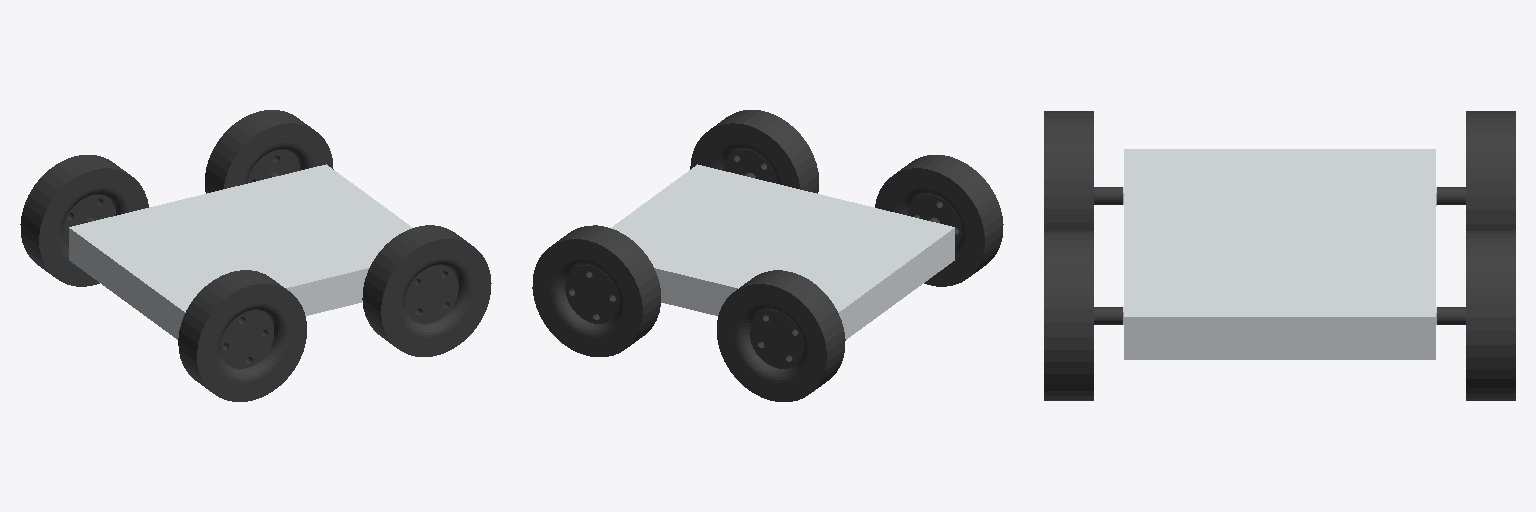
URDF robot description (delivery_robot):
<?xml version="1.0" encoding="utf-8"?>
<!-- This URDF was automatically created by SolidWorks to URDF Exporter! Originally created by [author] ([email redacted]) 
     Commit Version: 1.6.0-4-g7f85cfe  Build Version: 1.6.7995.38578
     For more information, please see http://wiki.ros.org/sw_urdf_exporter -->
<robot
  name="delivery_robot">
  <link name="dummy_link" />

  <joint name="dummy_joint" type="fixed">
    <parent link="dummy_link" />
    <child link="base_link" />
    <origin xyz="0 0 0" rpy="0 0 0" />
  </joint>
  <link
    name="base_link">
    <inertial>
      <origin
        xyz="0.010935 -0.030407 0.054599"
        rpy="0 0 0" />
      <mass
        value="0.92997" />
      <inertia
        ixx="0.0079514"
        ixy="-1.1522E-08"
        ixz="5.938E-10"
        iyy="0.012166"
        iyz="2.7431E-08"
        izz="0.019879" />
    </inertial>
    <visual>
      <origin
        xyz="0 0 0"
        rpy="0 0 0" />
      <geometry>
        <mesh
          filename="package://delivery_robot/meshes/base_link.STL" />
      </geometry>
      <material
        name="">
        <color
          rgba="0.89804 0.91765 0.92941 1" />
      </material>
    </visual>
    <collision>
      <origin
        xyz="0 0 0"
        rpy="0 0 0" />
      <geometry>
        <mesh
          filename="package://delivery_robot/meshes/base_link.STL" />
      </geometry>
    </collision>
  </link>
  <link
    name="wheel_r1_link">
    <inertial>
      <origin
        xyz="-2.77555756156289E-17 -0.01905 -6.93889390390723E-18"
        rpy="0 0 0" />
      <mass
        value="0.00925034546157725" />
      <inertia
        ixx="1.26237123251708E-06"
        ixy="-2.68139427113751E-39"
        ixz="3.9715781344532E-55"
        iyy="2.86760135787476E-07"
        iyz="5.18315748524543E-24"
        izz="1.26237123251708E-06" />
    </inertial>
    <visual>
      <origin
        xyz="0 0 0"
        rpy="0 0 0" />
      <geometry>
        <mesh
          filename="package://delivery_robot/meshes/wheel_r1_link.STL" />
      </geometry>
      <material
        name="">
        <color
          rgba="0.298039215686275 0.298039215686275 0.298039215686275 1" />
      </material>
    </visual>
    <collision>
      <origin
        xyz="0 0 0"
        rpy="0 0 0" />
      <geometry>
        <mesh
          filename="package://delivery_robot/meshes/wheel_r1_link.STL" />
      </geometry>
    </collision>
  </link>
  <joint
    name="wheel_r1_joint"
    type="continuous">
    <origin
      xyz="0.13799 0.11056 0.03863"
      rpy="3.1416 0 0" />
    <parent
      link="base_link" />
    <child
      link="wheel_r1_link" />
    <axis
      xyz="0 1 0" />
  </joint>
  <link
    name="real_wheel_r1_link">
    <inertial>
      <origin
        xyz="6.74635390052192E-06 1.18862929219116E-05 -0.022225"
        rpy="0 0 0" />
      <mass
        value="0.837780520459389" />
      <inertia
        ixx="0.00151305128968288"
        ixy="-1.05291714394583E-07"
        ixz="3.71419242818938E-21"
        iyy="0.00151267393371603"
        iyz="-4.34580762946475E-21"
        izz="0.00278701331152993" />
    </inertial>
    <visual>
      <origin
        xyz="0 0 0"
        rpy="0 0 0" />
      <geometry>
        <mesh
          filename="package://delivery_robot/meshes/real_wheel_r1_link.STL" />
      </geometry>
      <material
        name="">
        <color
          rgba="0.298039215686275 0.298039215686275 0.298039215686275 1" />
      </material>
    </visual>
    <collision>
      <origin
        xyz="0 0 0"
        rpy="0 0 0" />
      <geometry>
        <mesh
          filename="package://delivery_robot/meshes/real_wheel_r1_link.STL" />
      </geometry>
    </collision>
  </link>
  <joint
    name="real_wheel_r1_joint"
    type="continuous">
    <origin
      xyz="0 -0.0254 0"
      rpy="-1.5708 0.75515 0" />
    <parent
      link="wheel_r1_link" />
    <child
      link="real_wheel_r1_link" />
    <axis
      xyz="0 0 1" />
  </joint>
  <link
    name="wheel_f1_link">
    <inertial>
      <origin
        xyz="-1.38777878078145E-17 0.01905 0"
        rpy="0 0 0" />
      <mass
        value="0.00925034546157725" />
      <inertia
        ixx="1.26237123251708E-06"
        ixy="-2.68139427113751E-39"
        ixz="-3.9715781344532E-55"
        iyy="2.86760135787476E-07"
        iyz="-3.62940203436553E-38"
        izz="1.26237123251708E-06" />
    </inertial>
    <visual>
      <origin
        xyz="0 0 0"
        rpy="0 0 0" />
      <geometry>
        <mesh
          filename="package://delivery_robot/meshes/wheel_f1_link.STL" />
      </geometry>
      <material
        name="">
        <color
          rgba="0.298039215686275 0.298039215686275 0.298039215686275 1" />
      </material>
    </visual>
    <collision>
      <origin
        xyz="0 0 0"
        rpy="0 0 0" />
      <geometry>
        <mesh
          filename="package://delivery_robot/meshes/wheel_f1_link.STL" />
      </geometry>
    </collision>
  </link>
  <joint
    name="wheel_f1_joint"
    type="continuous">
    <origin
      xyz="-0.11601 0.11056 0.03863"
      rpy="0 0 0" />
    <parent
      link="base_link" />
    <child
      link="wheel_f1_link" />
    <axis
      xyz="0 1 0" />
  </joint>
  <link
    name="real_wheel_f1_link">
    <inertial>
      <origin
        xyz="6.7463539005358E-06 1.18862929219671E-05 0.022225"
        rpy="0 0 0" />
      <mass
        value="0.837780520459389" />
      <inertia
        ixx="0.00151305128968288"
        ixy="-1.05291714394339E-07"
        ixz="-1.06298982490433E-21"
        iyy="0.00151267393371603"
        iyz="-5.71971116817966E-23"
        izz="0.00278701331152993" />
    </inertial>
    <visual>
      <origin
        xyz="0 0 0"
        rpy="0 0 0" />
      <geometry>
        <mesh
          filename="package://delivery_robot/meshes/real_wheel_f1_link.STL" />
      </geometry>
      <material
        name="">
        <color
          rgba="0.298039215686275 0.298039215686275 0.298039215686275 1" />
      </material>
    </visual>
    <collision>
      <origin
        xyz="0 0 0"
        rpy="0 0 0" />
      <geometry>
        <mesh
          filename="package://delivery_robot/meshes/real_wheel_f1_link.STL" />
      </geometry>
    </collision>
  </link>
  <joint
    name="real_wheel_f1_joint"
    type="continuous">
    <origin
      xyz="0 0.0254 0"
      rpy="-1.5708 -0.1063 0" />
    <parent
      link="wheel_f1_link" />
    <child
      link="real_wheel_f1_link" />
    <axis
      xyz="0 0 1" />
  </joint>
  <link
    name="wheel_r2_link">
    <inertial>
      <origin
        xyz="0 0.01905 2.08166817117217E-17"
        rpy="0 0 0" />
      <mass
        value="0.00925034546157725" />
      <inertia
        ixx="1.26237123251708E-06"
        ixy="-2.68139427113751E-39"
        ixz="-4.96447266806645E-56"
        iyy="2.86760135787476E-07"
        iyz="-1.49033559525697E-22"
        izz="1.26237123251708E-06" />
    </inertial>
    <visual>
      <origin
        xyz="0 0 0"
        rpy="0 0 0" />
      <geometry>
        <mesh
          filename="package://delivery_robot/meshes/wheel_r2_link.STL" />
      </geometry>
      <material
        name="">
        <color
          rgba="0.298039215686275 0.298039215686275 0.298039215686275 1" />
      </material>
    </visual>
    <collision>
      <origin
        xyz="0 0 0"
        rpy="0 0 0" />
      <geometry>
        <mesh
          filename="package://delivery_robot/meshes/wheel_r2_link.STL" />
      </geometry>
    </collision>
  </link>
  <joint
    name="wheel_r2_joint"
    type="continuous">
    <origin
      xyz="0.13791 -0.17138 0.038807"
      rpy="3.1416 0 0" />
    <parent
      link="base_link" />
    <child
      link="wheel_r2_link" />
    <axis
      xyz="0 1 0" />
  </joint>
  <link
    name="real_wheel_r2_link">
    <inertial>
      <origin
        xyz="6.74635390051498E-06 1.18862929219254E-05 -0.022225"
        rpy="0 0 0" />
      <mass
        value="0.837780520459389" />
      <inertia
        ixx="0.00151305128968288"
        ixy="-1.05291714394394E-07"
        ixz="-9.89021711443493E-20"
        iyy="0.00151267393371603"
        iyz="6.95362221279974E-21"
        izz="0.00278701331152993" />
    </inertial>
    <visual>
      <origin
        xyz="0 0 0"
        rpy="0 0 0" />
      <geometry>
        <mesh
          filename="package://delivery_robot/meshes/real_wheel_r2_link.STL" />
      </geometry>
      <material
        name="">
        <color
          rgba="0.298039215686275 0.298039215686275 0.298039215686275 1" />
      </material>
    </visual>
    <collision>
      <origin
        xyz="0 0 0"
        rpy="0 0 0" />
      <geometry>
        <mesh
          filename="package://delivery_robot/meshes/real_wheel_r2_link.STL" />
      </geometry>
    </collision>
  </link>
  <joint
    name="real_wheel_r2_joint"
    type="continuous">
    <origin
      xyz="0 0.0254 0"
      rpy="-1.5708 -1.5106 3.1416" />
    <parent
      link="wheel_r2_link" />
    <child
      link="real_wheel_r2_link" />
    <axis
      xyz="0 0 1" />
  </joint>
  <link
    name="wheel_f2_link">
    <inertial>
      <origin
        xyz="-2.77555756156289E-17 0.01905 5.55111512312578E-17"
        rpy="0 0 0" />
      <mass
        value="0.00925034546157725" />
      <inertia
        ixx="1.26237123251708E-06"
        ixy="6.7231285611538E-24"
        ixz="0"
        iyy="2.86760135787476E-07"
        iyz="-1.58038263479407E-23"
        izz="1.26237123251708E-06" />
    </inertial>
    <visual>
      <origin
        xyz="0 0 0"
        rpy="0 0 0" />
      <geometry>
        <mesh
          filename="package://delivery_robot/meshes/wheel_f2_link.STL" />
      </geometry>
      <material
        name="">
        <color
          rgba="0.298039215686275 0.298039215686275 0.298039215686275 1" />
      </material>
    </visual>
    <collision>
      <origin
        xyz="0 0 0"
        rpy="0 0 0" />
      <geometry>
        <mesh
          filename="package://delivery_robot/meshes/wheel_f2_link.STL" />
      </geometry>
    </collision>
  </link>
  <joint
    name="wheel_f2_joint"
    type="continuous">
    <origin
      xyz="-0.11609 -0.17138 0.038807"
      rpy="0 0.17094 -3.1416" />
    <parent
      link="base_link" />
    <child
      link="wheel_f2_link" />
    <axis
      xyz="0 1 0" />
  </joint>
  <link
    name="real_wheel_f2_link">
    <inertial>
      <origin
        xyz="6.74635390054967E-06 1.18862929218769E-05 0.022225"
        rpy="0 0 0" />
      <mass
        value="0.837780520459389" />
      <inertia
        ixx="0.00151305128968288"
        ixy="-1.05291714394854E-07"
        ixz="1.69141346237133E-19"
        iyy="0.00151267393371603"
        iyz="8.80229443436177E-20"
        izz="0.00278701331152993" />
    </inertial>
    <visual>
      <origin
        xyz="0 0 0"
        rpy="0 0 0" />
      <geometry>
        <mesh
          filename="package://delivery_robot/meshes/real_wheel_f2_link.STL" />
      </geometry>
      <material
        name="">
        <color
          rgba="0.298039215686275 0.298039215686275 0.298039215686275 1" />
      </material>
    </visual>
    <collision>
      <origin
        xyz="0 0 0"
        rpy="0 0 0" />
      <geometry>
        <mesh
          filename="package://delivery_robot/meshes/real_wheel_f2_link.STL" />
      </geometry>
    </collision>
  </link>
  <joint
    name="real_wheel_f2_joint"
    type="continuous">
    <origin
      xyz="0 0.0254 0"
      rpy="1.5708 0.71507 3.1416" />
    <parent
      link="wheel_f2_link" />
    <child
      link="real_wheel_f2_link" />
    <axis
      xyz="0 0 1" />
  </joint>
</robot>

--- Render facts (derived) ---
The picture shows the robot from 3 angles, left to right: view 1: azimuth 30°, elevation 25°; view 2: azimuth 150°, elevation 25°; view 3: azimuth 270°, elevation 25°; orthographic projection.
Model delivery_robot with 10 links and 9 joints (8 continuous, 1 fixed), rooted at dummy_link, posed all joints at 0.
Visible links, largest first — view 1: base_link, real_wheel_f2_link, real_wheel_r2_link, real_wheel_f1_link, real_wheel_r1_link; view 2: base_link, real_wheel_f1_link, real_wheel_r1_link, real_wheel_f2_link, real_wheel_r2_link; view 3: base_link, real_wheel_r1_link, real_wheel_r2_link, real_wheel_f1_link, real_wheel_f2_link.
Boxes of the visible links, bbox=[...] form: base_link: bbox=[69, 164, 412, 339]; real_wheel_f2_link: bbox=[178, 270, 306, 401]; real_wheel_r2_link: bbox=[362, 225, 491, 356]; real_wheel_f1_link: bbox=[20, 155, 148, 286]; real_wheel_r1_link: bbox=[205, 110, 333, 193]; base_link: bbox=[611, 164, 954, 339]; real_wheel_f1_link: bbox=[717, 270, 845, 401]; real_wheel_r1_link: bbox=[532, 225, 660, 356]; real_wheel_f2_link: bbox=[875, 155, 1003, 286]; real_wheel_r2_link: bbox=[690, 110, 818, 193]; base_link: bbox=[1123, 149, 1436, 359]; real_wheel_r1_link: bbox=[1466, 231, 1515, 400]; real_wheel_r2_link: bbox=[1044, 231, 1093, 400]; real_wheel_f1_link: bbox=[1466, 111, 1515, 230]; real_wheel_f2_link: bbox=[1044, 111, 1093, 230].
Size in the robot's own frame: 0.4063 by 0.4216 by 0.1525 metres.
9 mesh visuals loaded from 9 distinct referenced files (9 binary STL).
